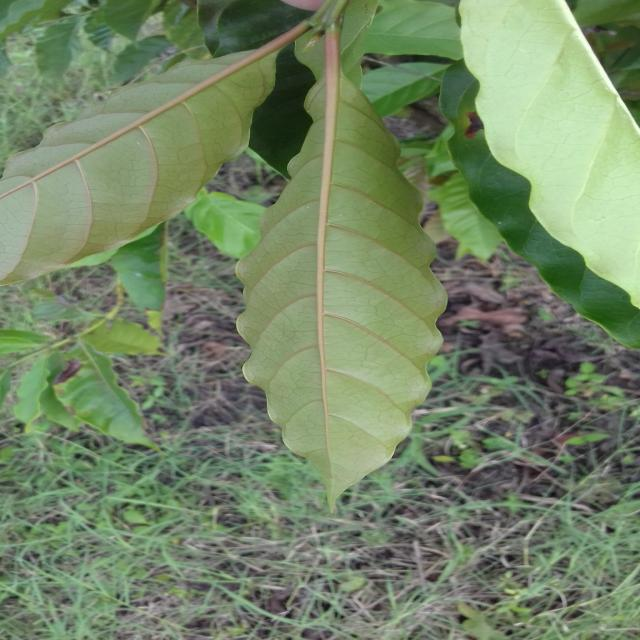Sanas: (235, 75, 447, 511)
